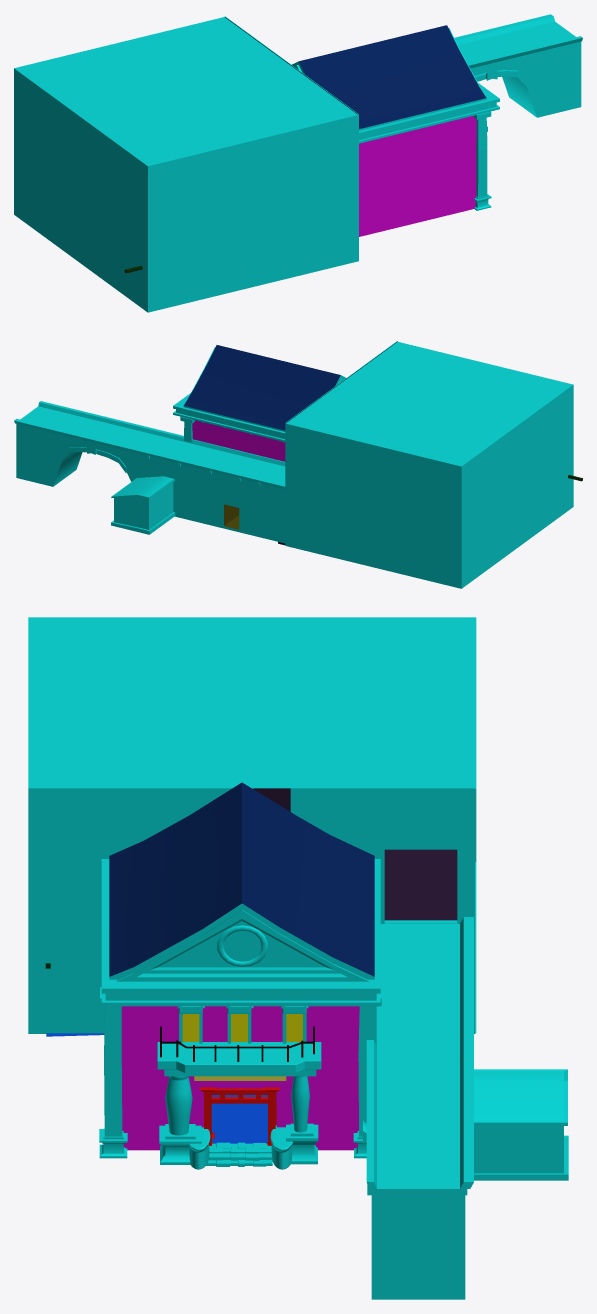
File: Bank_for_unity 1.fbx
3 renders of one model, top to bottom at view 1: azimuth 30°, elevation 25°; view 2: azimuth 150°, elevation 25°; view 3: azimuth 270°, elevation 25°, orthographic. The views are drawn at different scales.
Visible parts, largest first — view 1: Bank_vertex_low3_pCube118_low; view 2: Bank_vertex_low3_pCube118_low; view 3: Bank_vertex_low3_pCube118_low.
Part boxes in pixels (bbox=[...]): Bank_vertex_low3_pCube118_low: bbox=[14, 14, 582, 312]; Bank_vertex_low3_pCube118_low: bbox=[14, 341, 582, 588]; Bank_vertex_low3_pCube118_low: bbox=[28, 617, 568, 1299].
Size of the model in its own units: 39.38 by 10.92 by 19.94.
